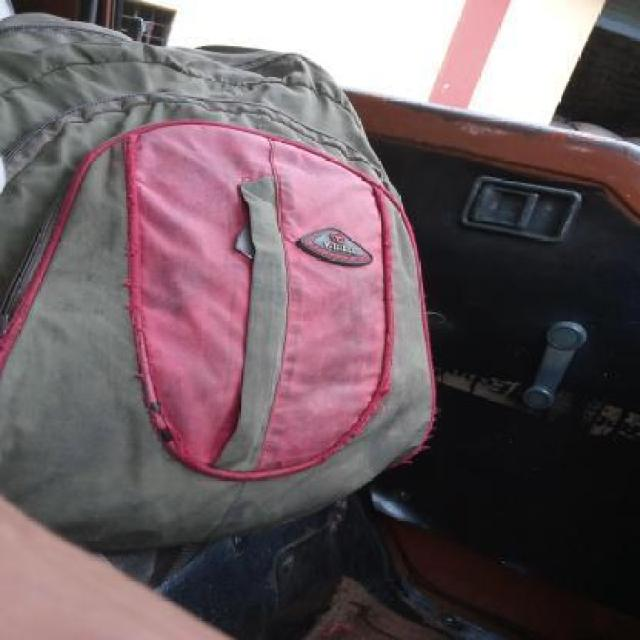backpack: (0, 8, 445, 560)
